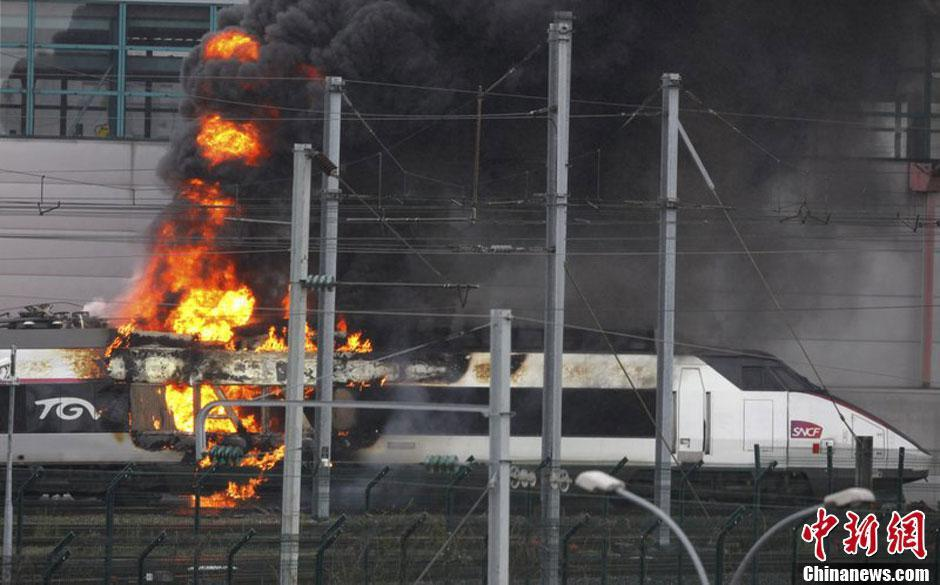fire: (117, 117, 290, 430), (185, 440, 285, 512), (299, 304, 373, 358), (205, 19, 260, 64)
